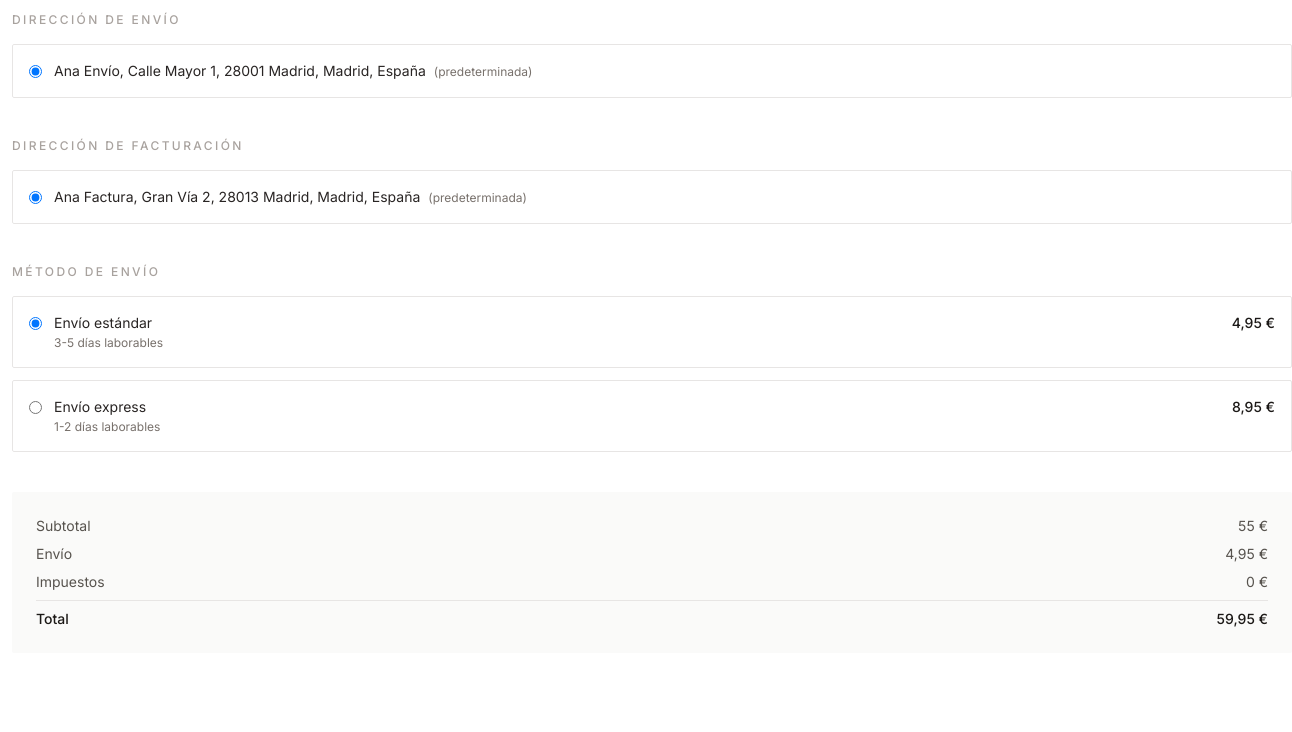
it: CheckoutClient › updates the total when switching from standard to express
Expected: the text "Método de envío" is shown, left=12, top=264, right=160, bottom=280
Expected: the text "59,95 €" is shown, left=1217, top=609, right=1268, bottom=629
Step 1. Click the radio button labelled "Envío express 1-2 días laborables 8,95 €" → click(36, 408), box left=29, top=401, right=42, bottom=414
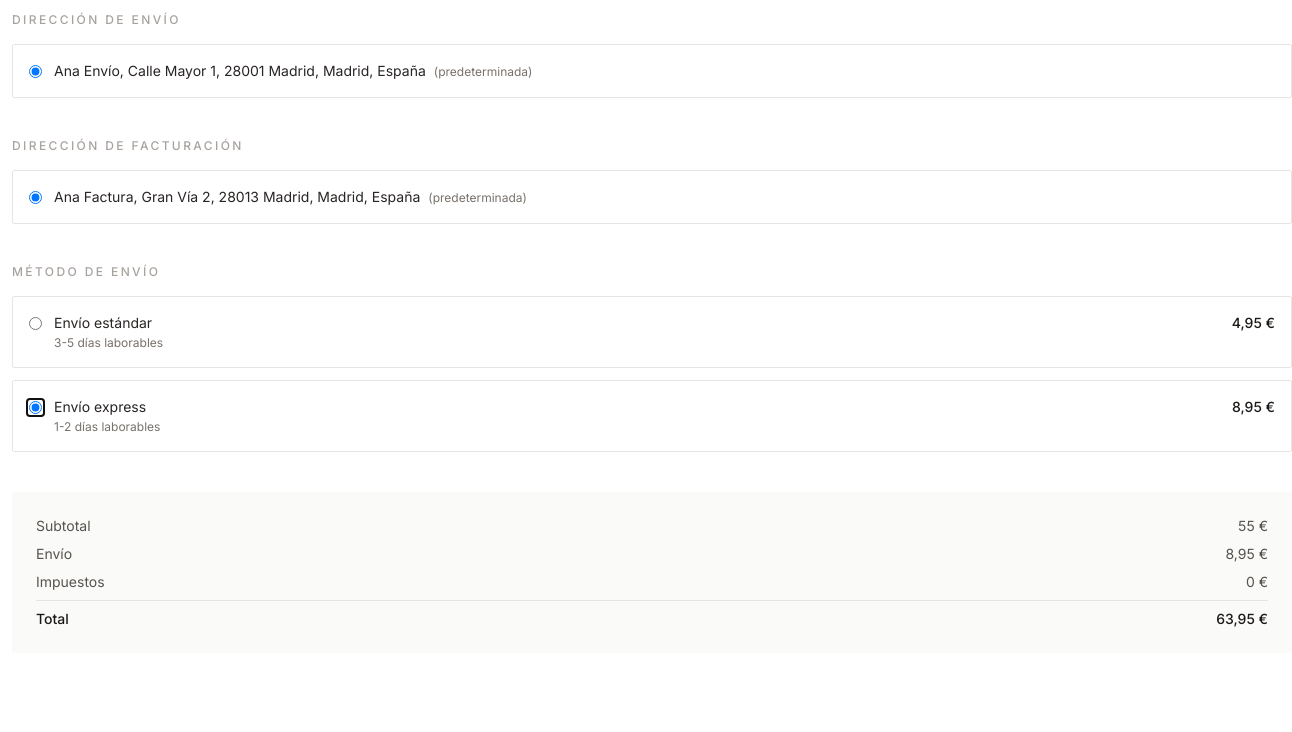
Result: the text "63,95 €" is shown at left=1216, top=609, right=1268, bottom=629
